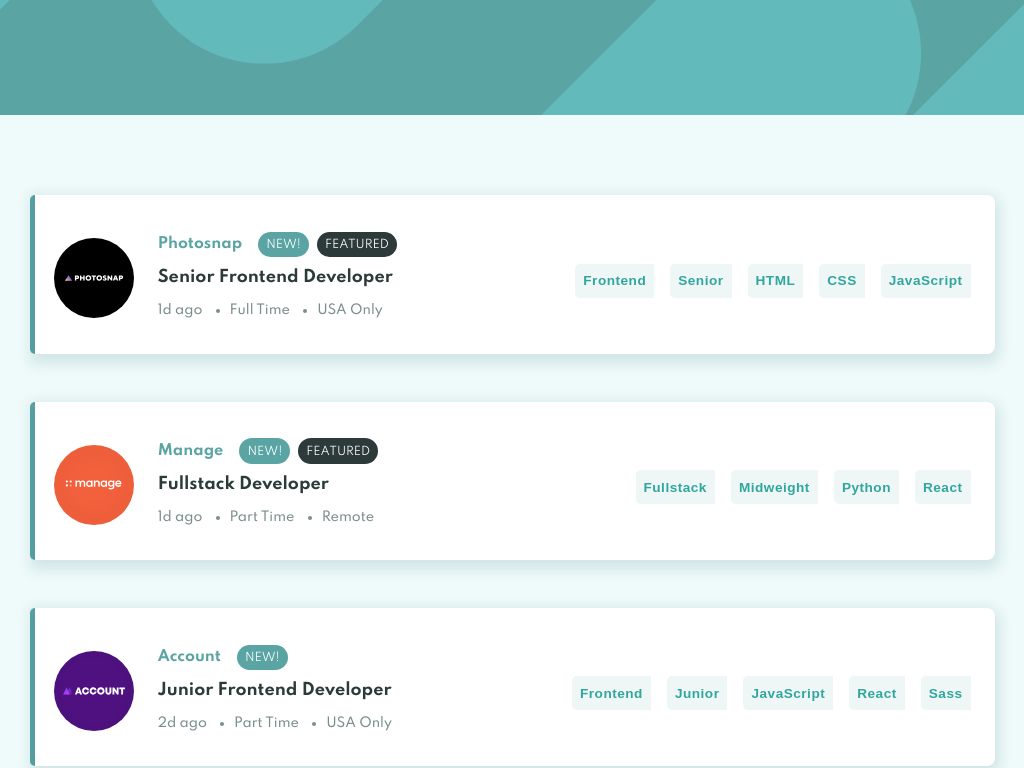
Test case: Testing the component › shows Clear button any role is clicked
The width and height of the screenshot is (1024, 768).
What coordinates should you click on to do the following:
click the button "Senior"
I would click on:
 (701, 281)
Its box is [670,264,732,298].
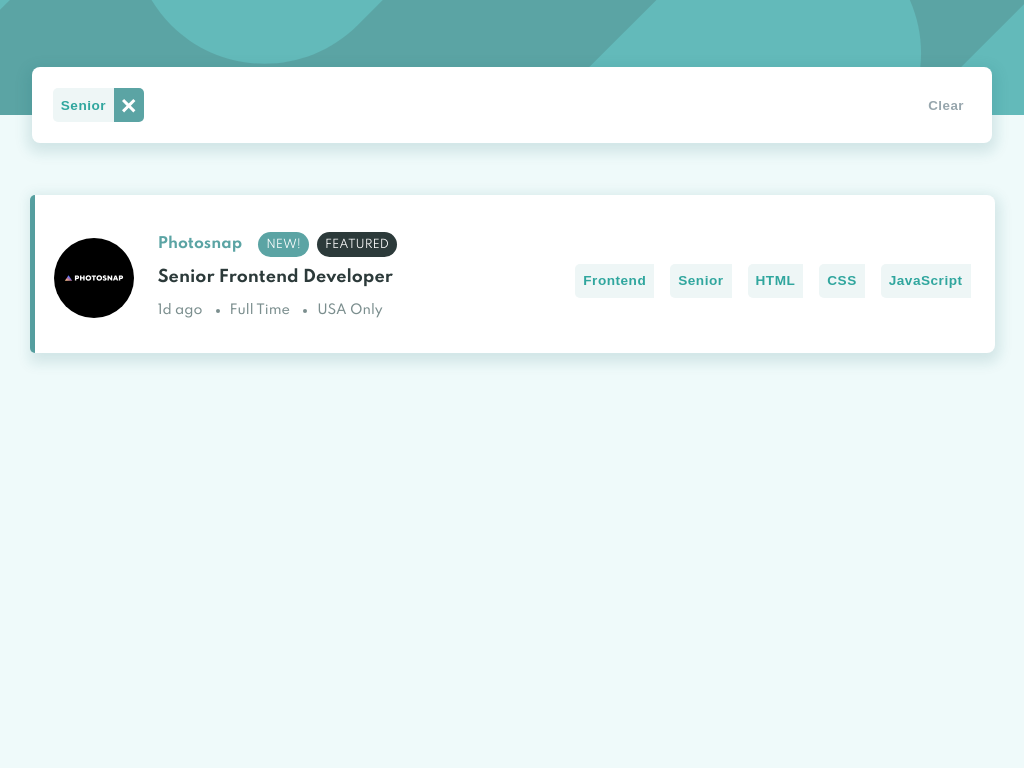
Expected: the button "Clear" is shown, [920,88,972,122]
